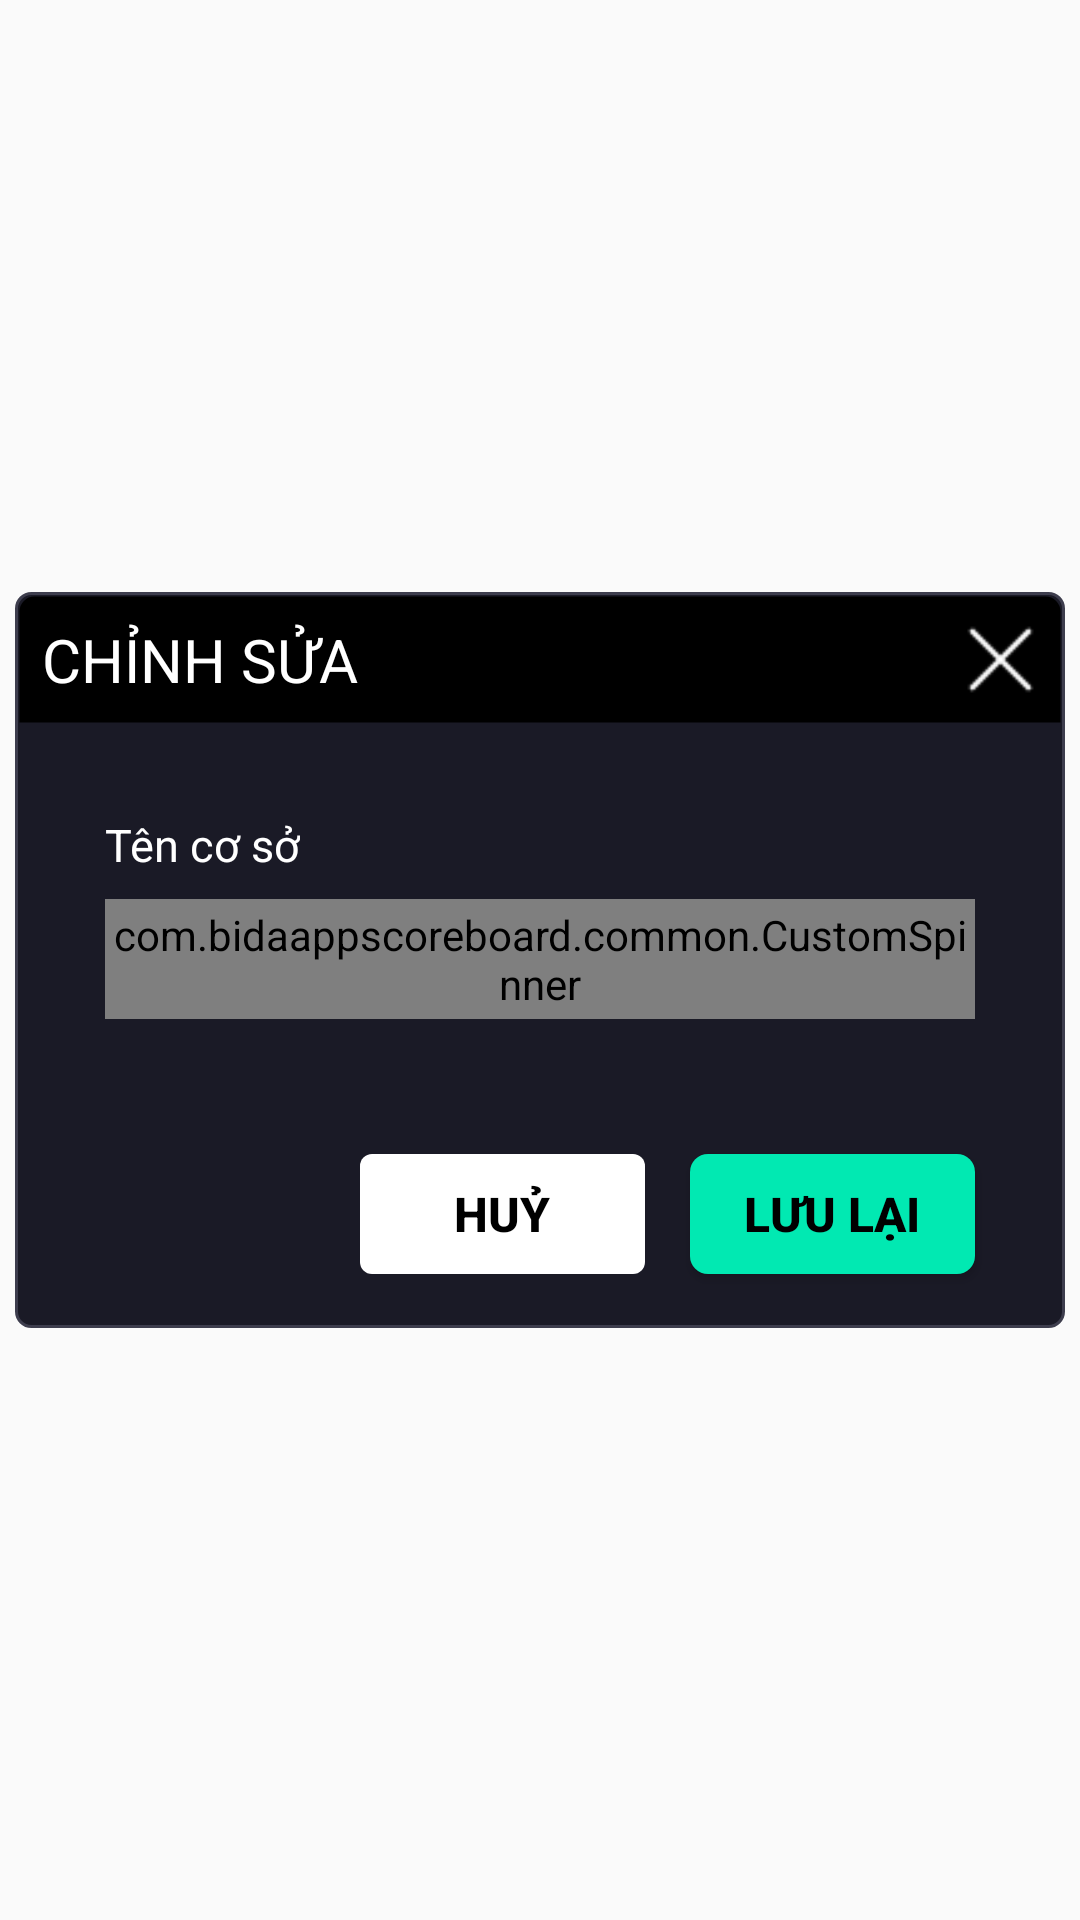

Icon bounding boxes for this 1080 x 1920 phone screenshot, format [x1,y1,x2,y2]:
close: [968,627,1033,692]
